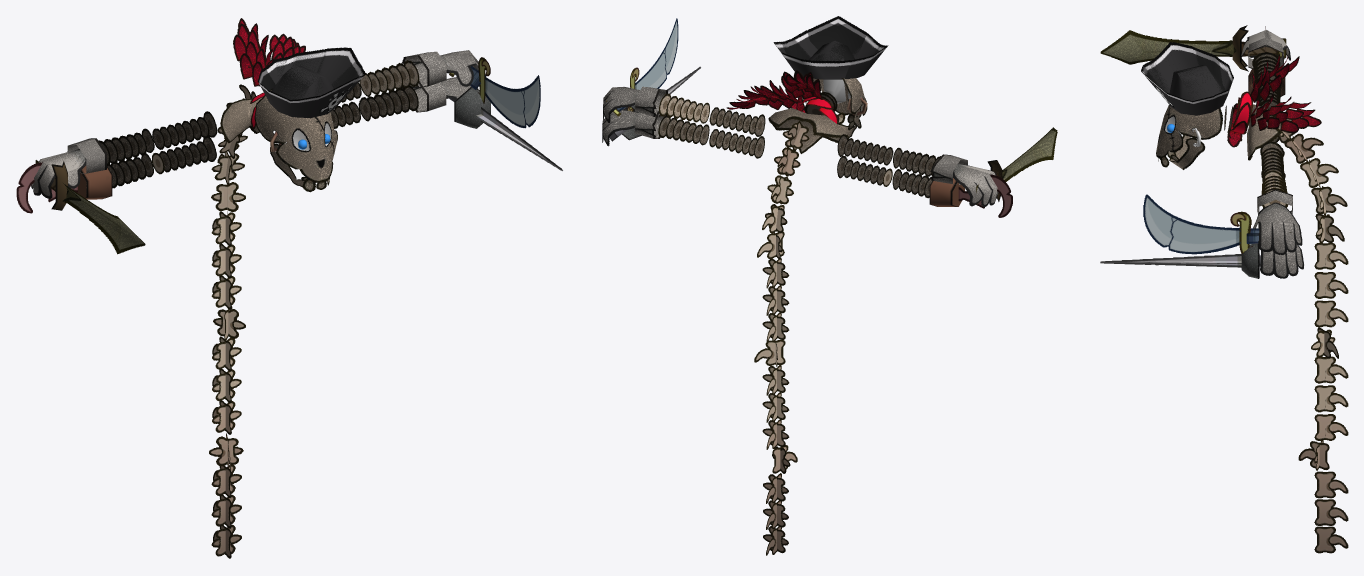
File: c_korutesu1.dae
3 views of the same model, side by side, from view 1: azimuth 30°, elevation 25°; view 2: azimuth 150°, elevation 25°; view 3: azimuth 270°, elevation 25° (orthographic). The views are drawn at different scales.
Visible parts, largest first — view 1: pPlane27, pPlane20, pPlane62, pPlane28, pPlane59, pPlane92, pPlane33, pSphere9, pPlane91, pCylinder8, pCylinder5, pPlane88 (+6 smaller); view 2: pPlane27, pPlane28, pPlane33, pPlane62, pPlane92, pPlane59, pPlane91, pCylinder8, pPlane20, pPlane88, pCylinder5, pPlane90 (+3 smaller); view 3: pPlane27, pPlane62, pPlane59, pPlane88, pPlane20, pPlane28, pPlane90, pPlane56, pPlane60, pPlane33, pPlane54, locator41_locator1_pPlane7 (+22 smaller).
Part boxes in pixels (x1,y1,x2,y2): pPlane27: [258, 47, 365, 118]; pPlane20: [254, 88, 337, 182]; pPlane62: [478, 57, 540, 128]; pPlane28: [258, 49, 363, 99]; pPlane59: [62, 184, 145, 254]; pPlane92: [31, 149, 86, 198]; pPlane33: [220, 97, 262, 142]; pSphere9: [454, 87, 490, 128]; pPlane91: [31, 150, 86, 197]; pCylinder8: [77, 165, 112, 199]; pCylinder5: [401, 51, 446, 87]; pPlane88: [440, 50, 479, 86]; pPlane27: [773, 16, 888, 79]; pPlane28: [781, 22, 881, 61]; pPlane33: [768, 108, 848, 153]; pPlane62: [627, 18, 678, 111]; pPlane92: [953, 164, 998, 207]; pPlane59: [998, 127, 1057, 181]; pPlane91: [953, 164, 997, 206]; pCylinder8: [929, 178, 964, 206]; pPlane20: [798, 78, 867, 115]; pPlane88: [603, 87, 639, 122]; pCylinder5: [635, 86, 667, 116]; pPlane90: [602, 109, 638, 146]; pPlane27: [1141, 42, 1233, 115]; pPlane62: [1143, 194, 1252, 254]; pPlane59: [1100, 30, 1236, 64]; pPlane88: [1253, 202, 1302, 254]; pPlane20: [1156, 105, 1222, 158]; pPlane28: [1141, 48, 1225, 98]; pPlane90: [1260, 243, 1303, 278]; pPlane56: [1100, 254, 1241, 267]; pPlane60: [1143, 195, 1250, 253]; pPlane33: [1247, 104, 1282, 160]; pPlane54: [1101, 30, 1235, 62]; locator41_locator1_pPlane7: [1314, 300, 1348, 327].
Size of the model in its own units: 185 by 214 by 94.03.
